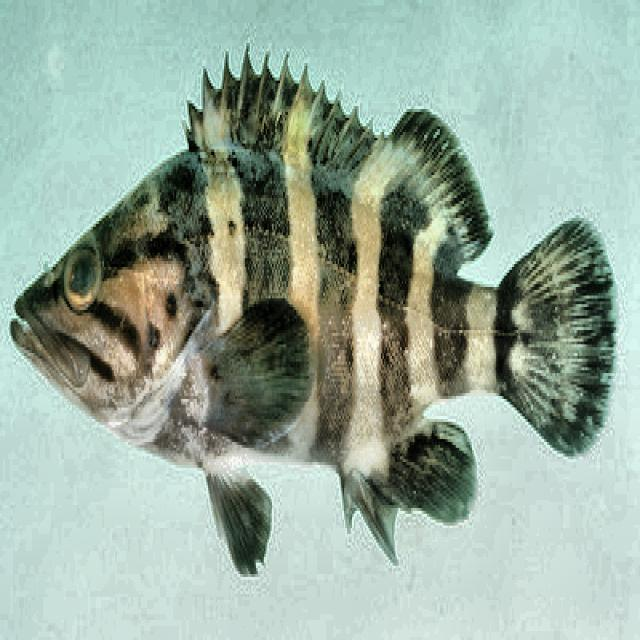fish: (9, 41, 620, 577)
